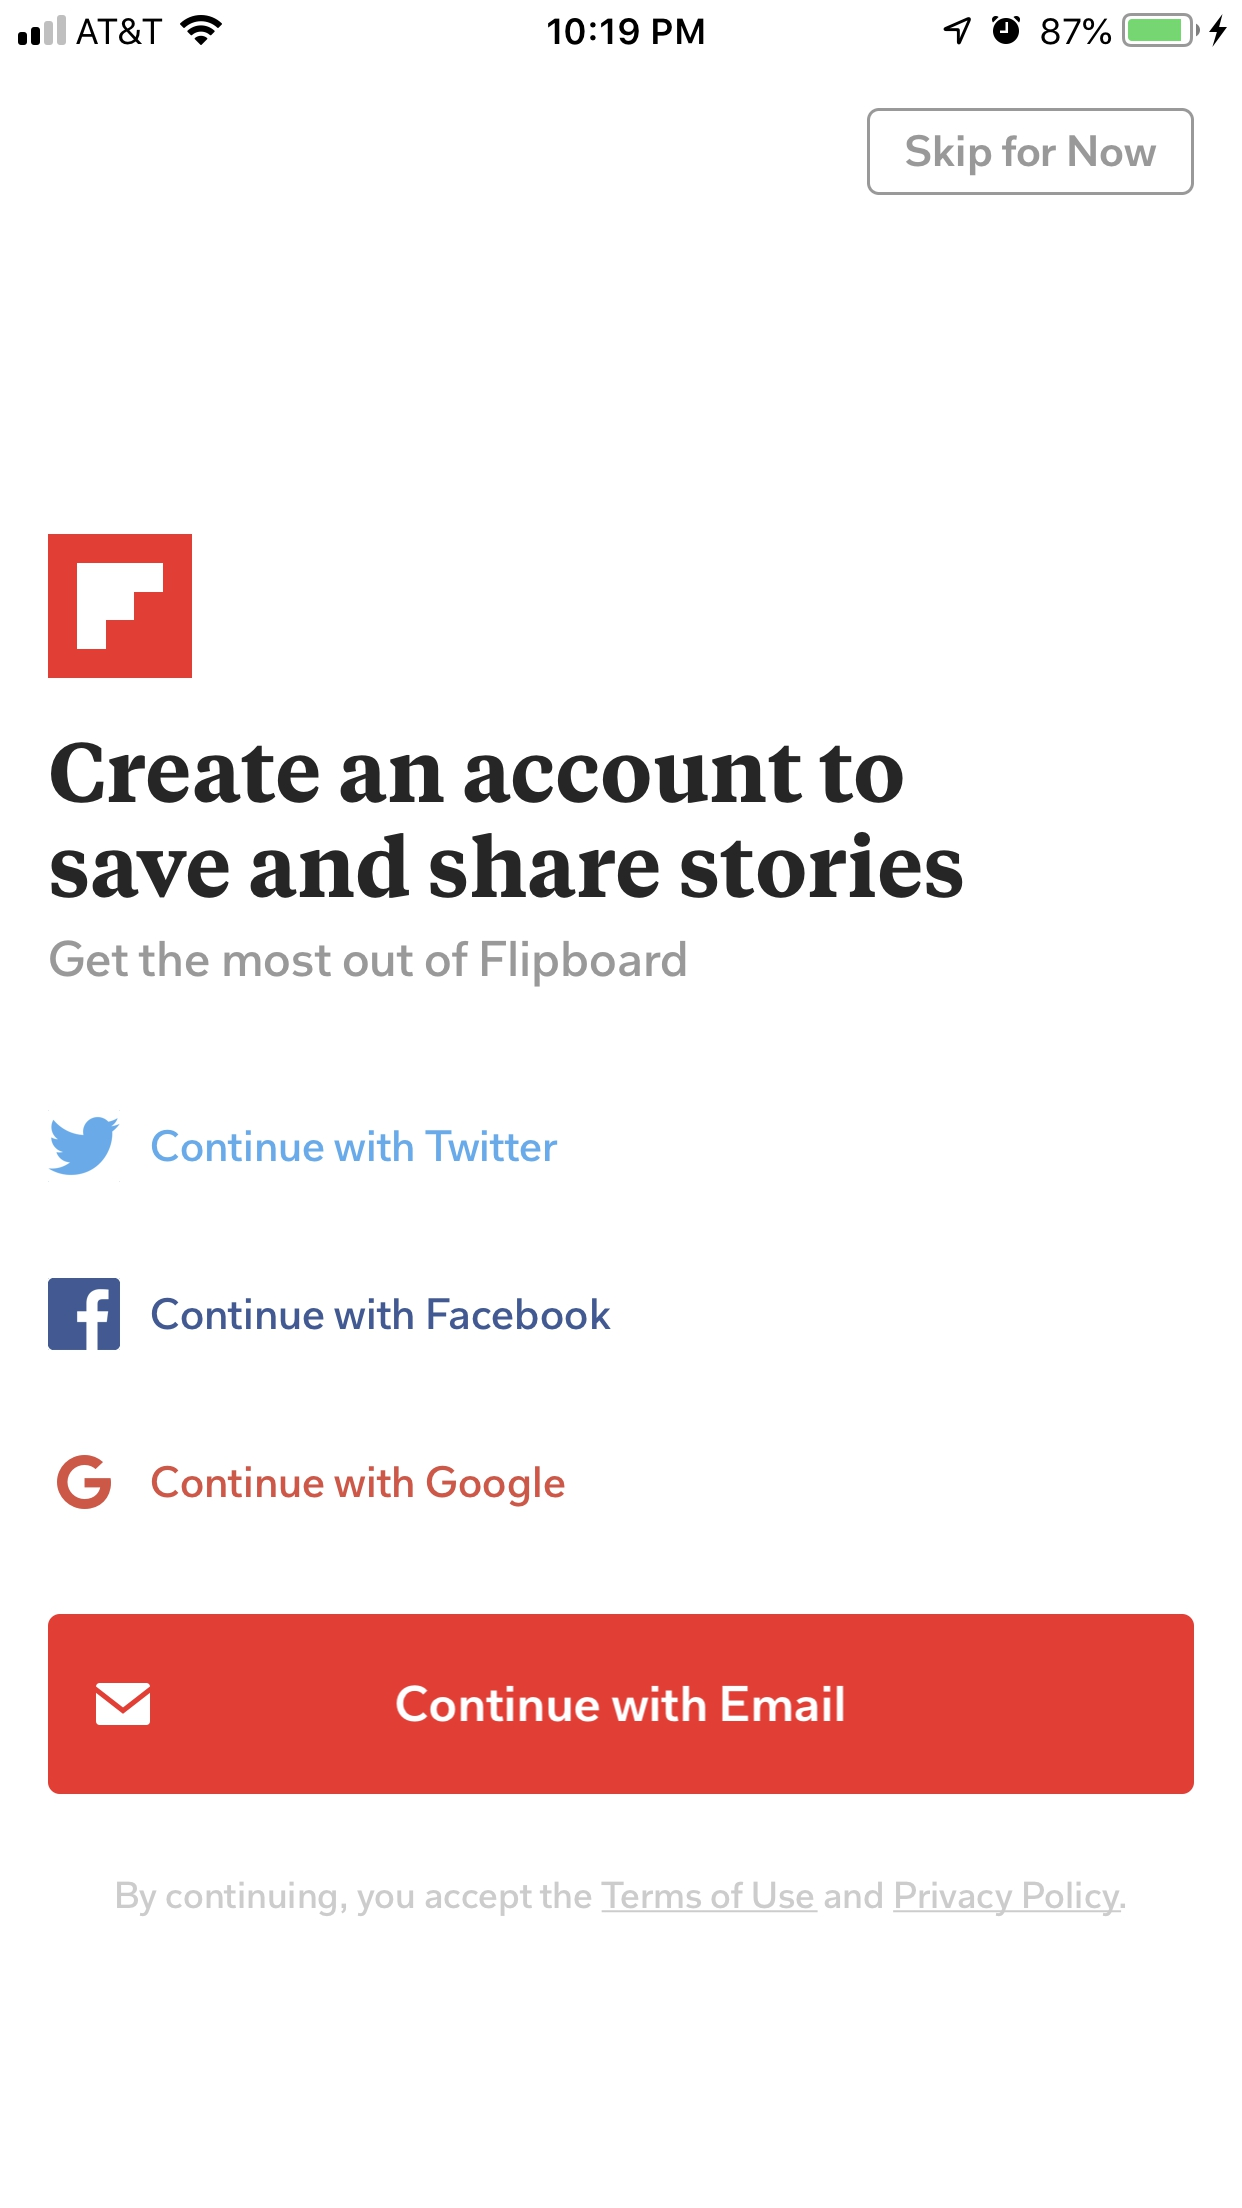Icon: (49, 1277, 121, 1351), (49, 1116, 121, 1177), (56, 1454, 114, 1510)
Image: (49, 534, 193, 679)
Text: (52, 742, 963, 899), (117, 1880, 1127, 1917), (49, 940, 687, 989), (152, 1465, 566, 1507), (152, 1297, 613, 1331), (152, 1128, 558, 1163)
TextButton: (49, 1614, 1193, 1796), (867, 109, 1195, 197)
UpperTaskBar: (2, 2, 1242, 49)
